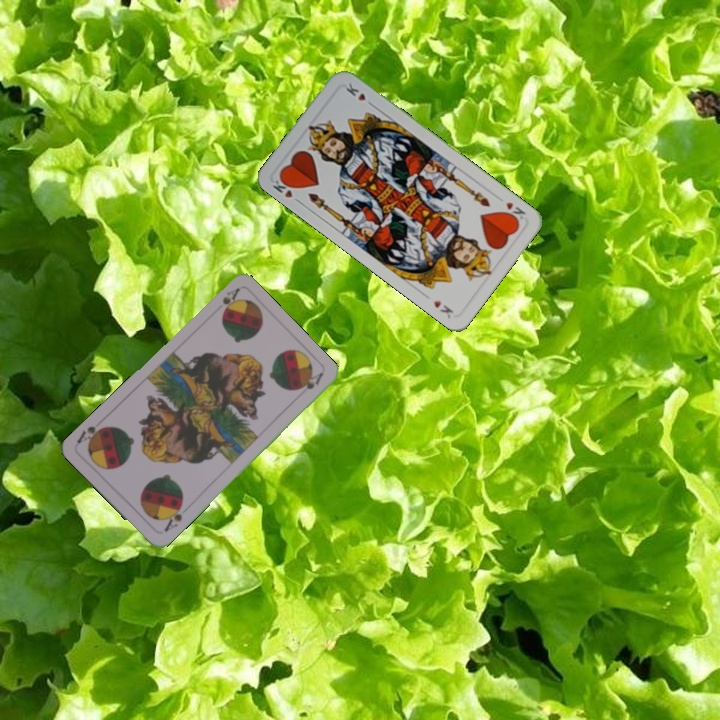HK: (268, 172, 304, 206), (500, 198, 528, 225)
SA: (159, 499, 185, 535), (218, 284, 242, 318)
